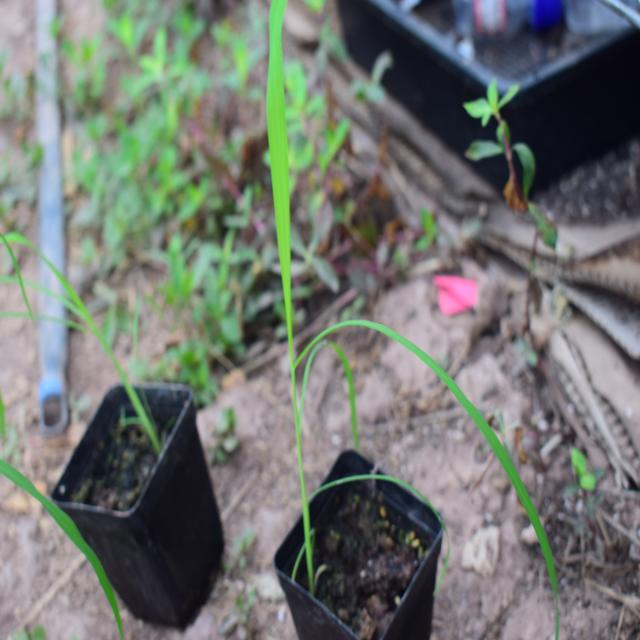barnyard_grass: (211, 19, 556, 556)
